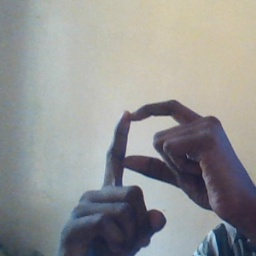D: (92, 98, 222, 219)
